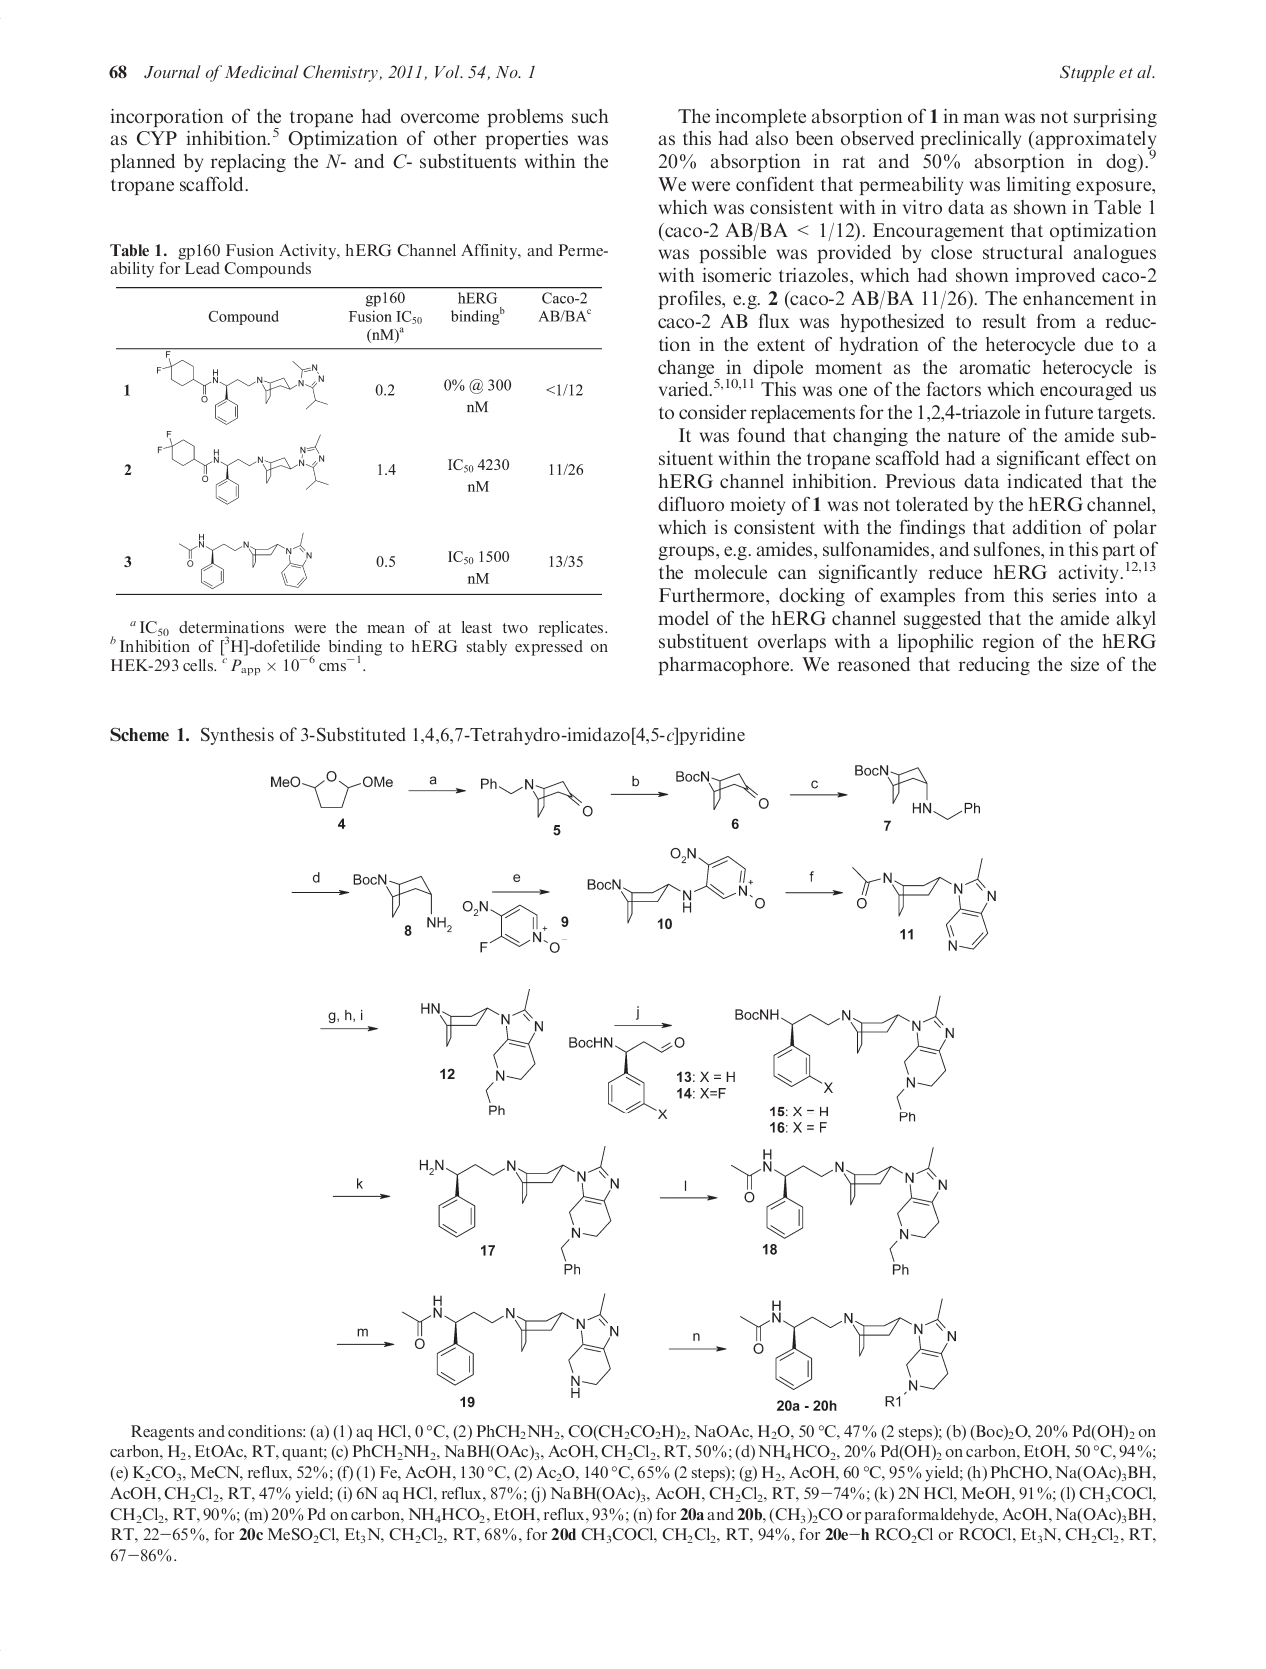exist_molecular: (733, 993, 957, 1121), (727, 1146, 948, 1275), (418, 1145, 622, 1275), (738, 1297, 957, 1408), (395, 1293, 621, 1400), (418, 987, 547, 1118), (584, 846, 769, 924), (848, 858, 997, 955), (152, 427, 332, 507), (156, 348, 332, 427), (565, 1031, 685, 1120), (178, 528, 316, 592), (852, 758, 983, 821), (348, 862, 453, 934), (461, 892, 567, 954), (476, 771, 594, 822), (267, 766, 395, 813), (672, 763, 771, 815)
